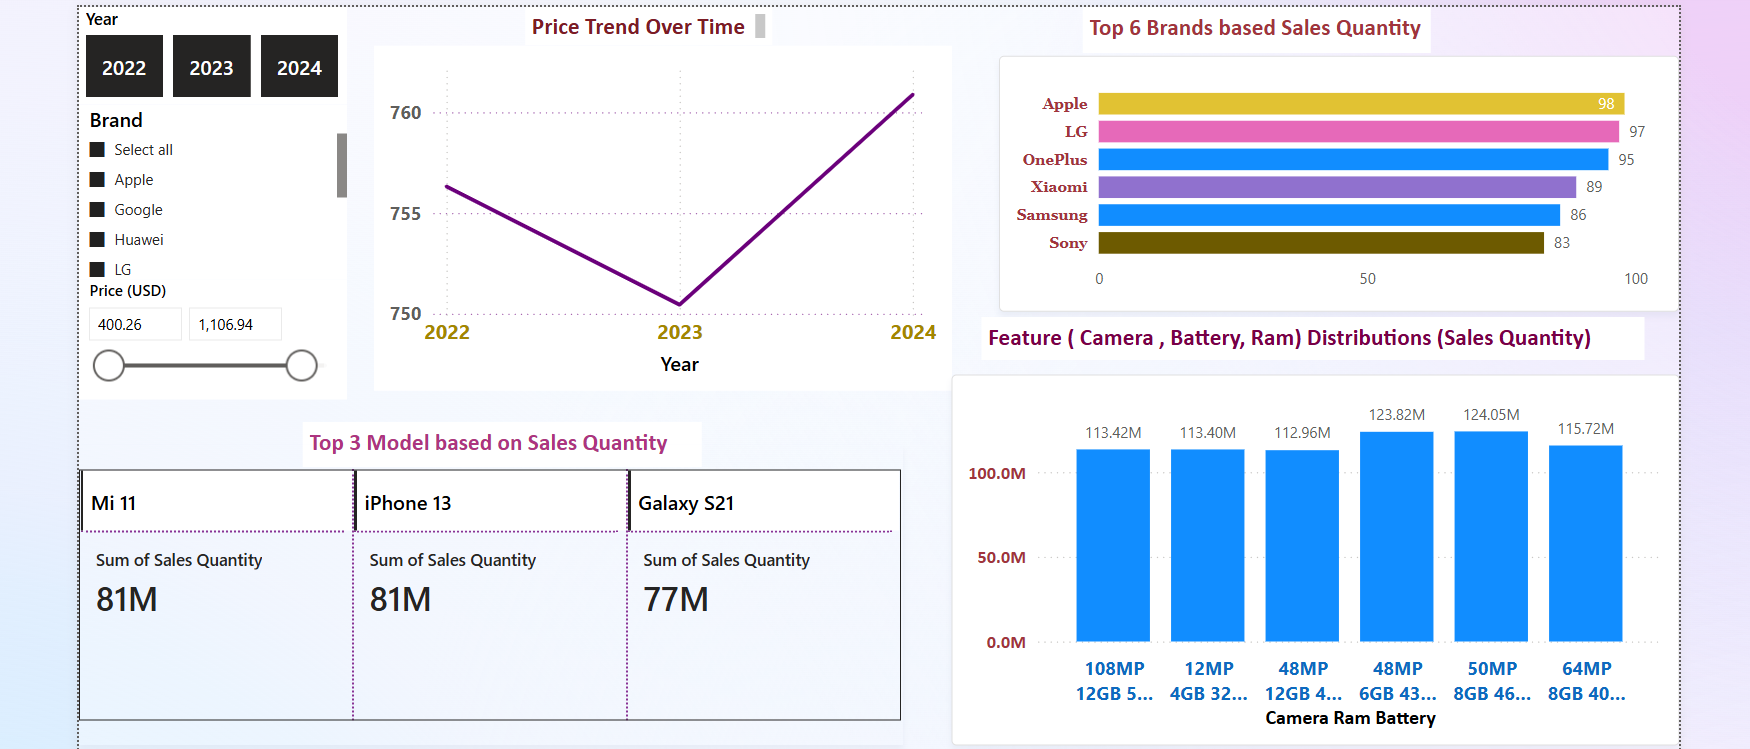

Layout of this report page (visuals, bound fields, positions):
{"tool":"powerbi","page":{"name":"Page 5","canvas":[1280,720],"ordinal":4},"visuals":[{"type":"clusteredBarChart","fields":{"Category":["phone_data.Brand"],"Y":["CountNonNull(phone_data.Brand)"]},"box":[736,39,544,205],"z":0},{"type":"textbox","box":[803,0,278,37],"z":1000},{"type":"lineChart","fields":{"Category":["phone_data.Year"],"Y":["Avg(phone_data.Price (USD))"]},"box":[236,31,462,276],"z":2000},{"type":"textbox","box":[357,0,197,31],"z":3000},{"type":"clusteredColumnChart","fields":{"Category":["phone_data.Camera","phone_data.Ram","phone_data.Battery"],"Y":["Sum(phone_data.Sales Quantity)"]},"box":[698,294,582,297],"z":4000},{"type":"textbox","box":[722,248,530,35],"z":5000},{"type":"textbox","box":[179,332,319,36],"z":6000},{"type":"slicer","fields":{"Values":["phone_data.Brand"]},"box":[0,78,214,140],"z":8000},{"type":"advancedSlicerVisual","fields":{"Values":["phone_data.Year"]},"box":[0,0,214,78],"z":9000},{"type":"slicer","fields":{"Values":["phone_data.Price (USD)"]},"box":[0,218,214,96],"z":10000},{"type":"cardVisual","fields":{"Rows":["phone_data.Model"],"Data":["Sum(phone_data.Sales Quantity)"]},"box":[0,350,659,241],"z":11000}]}

Visuals, with their boxes on the page's 1280x720 design canvas (x1, y1, x2, y2). These are canvas units, not pixel positions in the 1750x749 screenshot, which may show the page scaled, cropped or inside an application window:
clusteredBarChart - phone_data.Brand x CountNonNull(phone_data.Brand): region(736, 39, 1280, 244)
textbox: region(803, 0, 1081, 37)
lineChart - phone_data.Year x Avg(phone_data.Price (USD)): region(236, 31, 698, 307)
textbox: region(357, 0, 554, 31)
clusteredColumnChart - phone_data.Camera x phone_data.Ram: region(698, 294, 1280, 591)
textbox: region(722, 248, 1252, 283)
textbox: region(179, 332, 498, 368)
slicer - phone_data.Brand: region(0, 78, 214, 218)
advancedSlicerVisual - phone_data.Year: region(0, 0, 214, 78)
slicer - phone_data.Price (USD): region(0, 218, 214, 314)
cardVisual - phone_data.Model x Sum(phone_data.Sales Quantity): region(0, 350, 659, 591)
